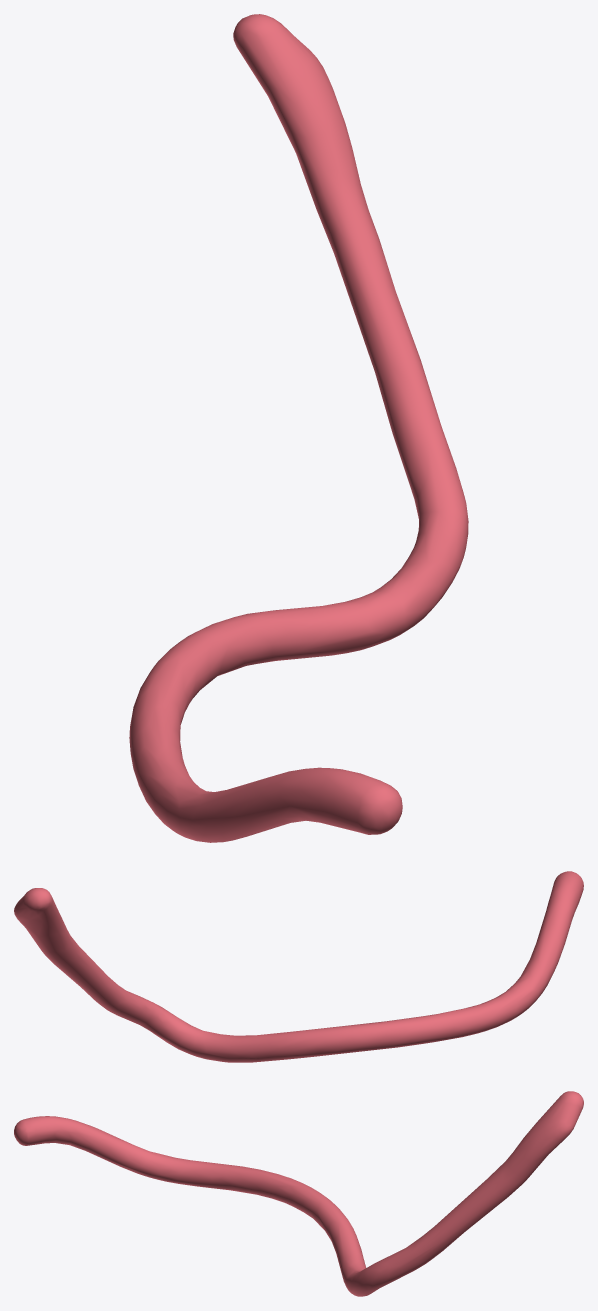
Rendered from fma50781_fj5140.glb.
The picture shows the model from 3 angles, top to bottom: view 1: azimuth 30°, elevation 25°; view 2: azimuth 150°, elevation 25°; view 3: azimuth 270°, elevation 25°; orthographic projection. The views are drawn at different scales.
Parts seen in each view (by area): view 1: FMA50781_FJ5140; view 2: FMA50781_FJ5140; view 3: FMA50781_FJ5140.
Boxes of the visible parts, x1,y1,x2,y2 form: FMA50781_FJ5140: (129, 14, 468, 842); FMA50781_FJ5140: (14, 871, 583, 1062); FMA50781_FJ5140: (14, 1091, 583, 1296).
Bounding box in the file's own units: 0.0374 × 0.0288 × 0.0671.
